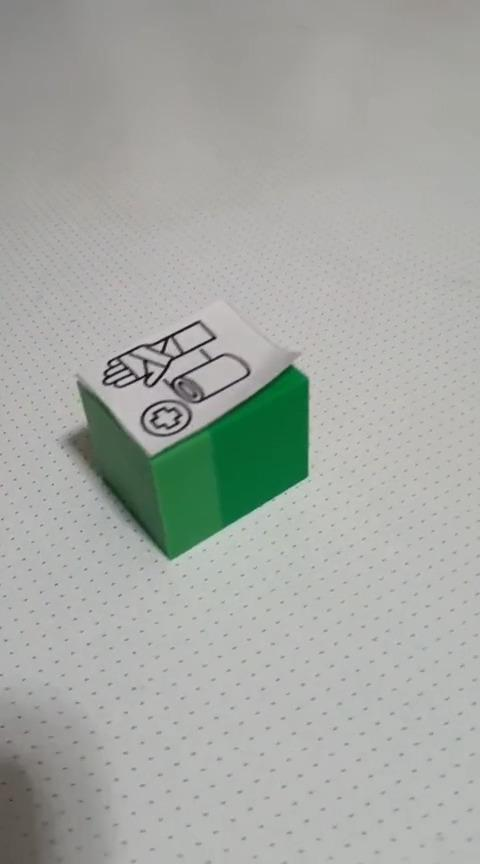Bandages: (74, 298, 310, 560)
